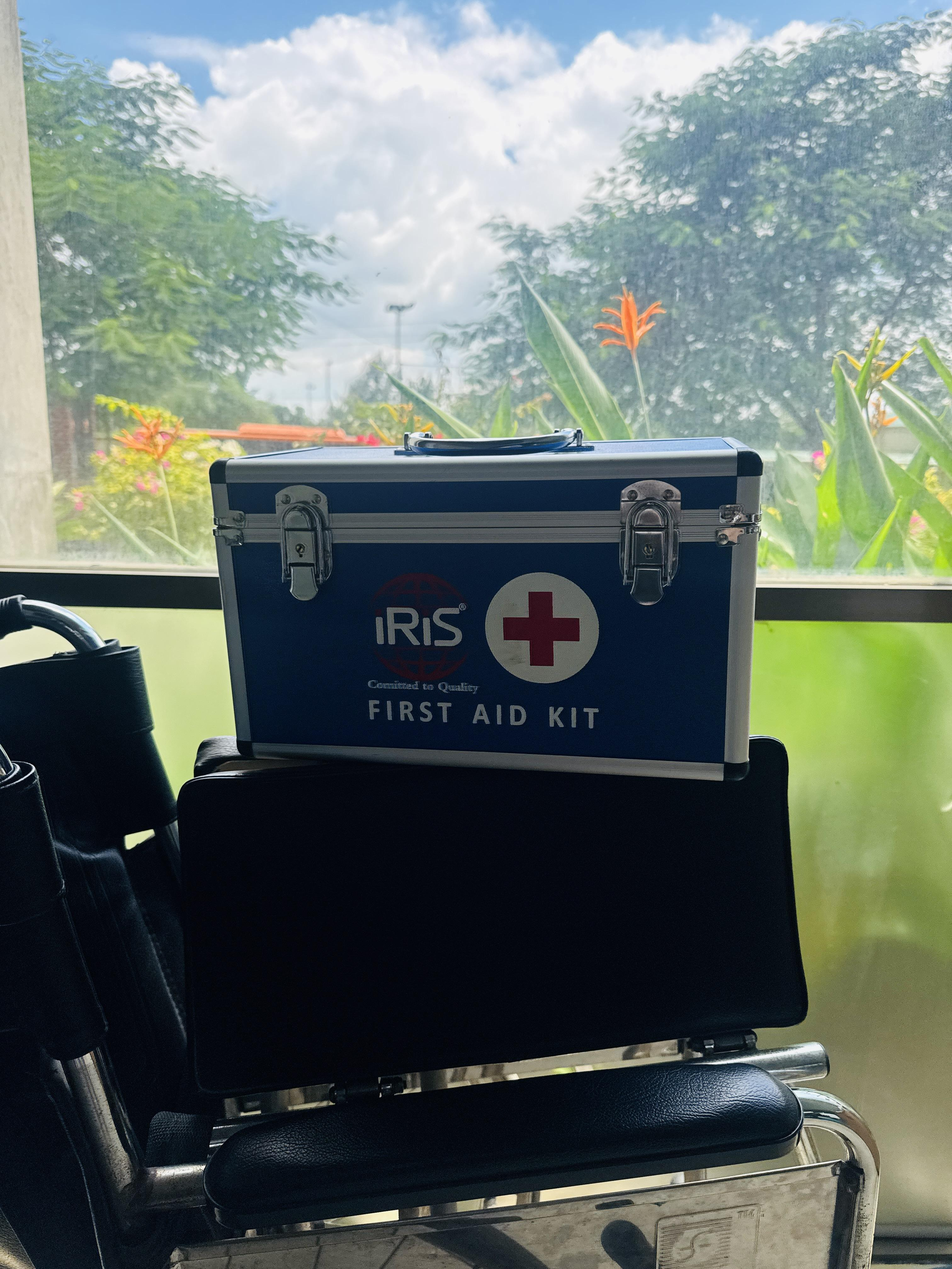FirstAidBox: (189, 415, 775, 795)
